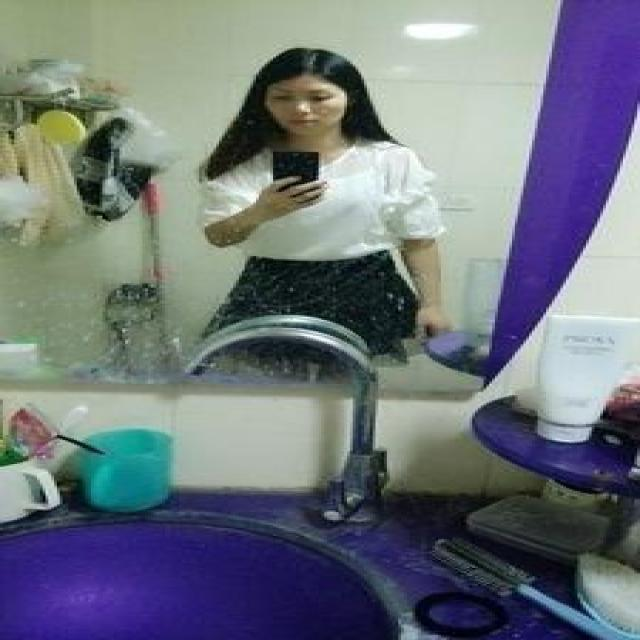short sleeve top: (199, 139, 441, 259)
skirt: (205, 251, 424, 363)
